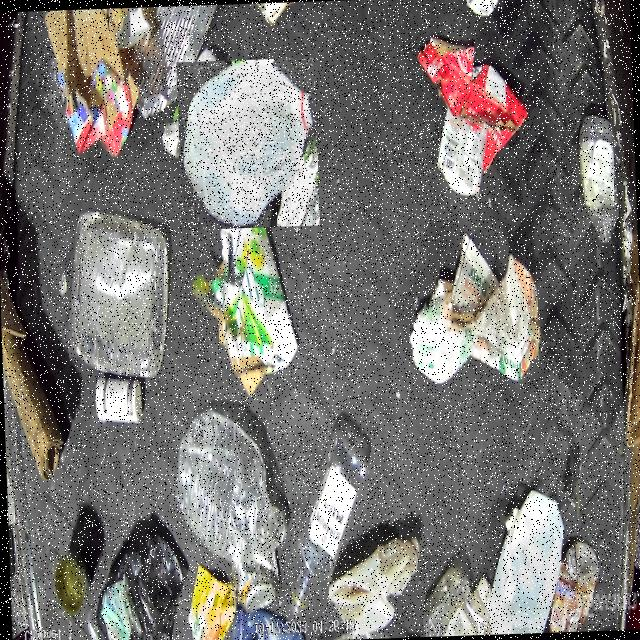milk-jug: (175, 56, 319, 229)
